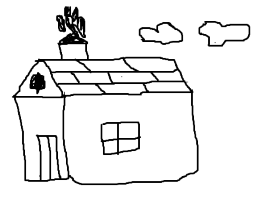closed_window: (92, 116, 147, 158)
clouds: (195, 13, 255, 49), (135, 16, 188, 49)
door: (28, 130, 67, 185)
roof: (11, 54, 197, 100)
smoking_chimney: (53, 3, 104, 68)
wall: (61, 85, 202, 189)
